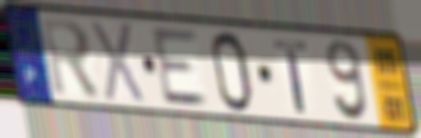0: (209, 28, 256, 115)
9: (325, 38, 370, 124)
E: (149, 27, 212, 109)
R: (38, 14, 103, 103)
T: (270, 36, 311, 115)
X: (88, 18, 148, 108)
